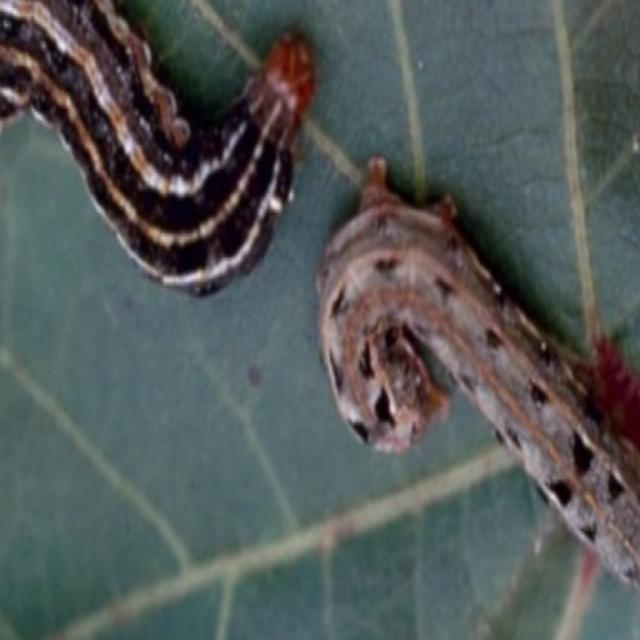armyworm: (314, 150, 639, 620), (0, 0, 318, 298)
